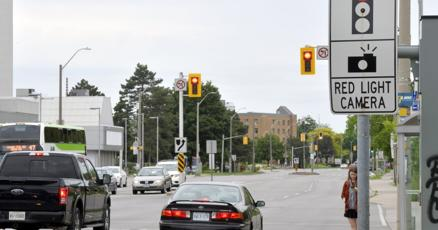red: (300, 48, 315, 75), (188, 73, 201, 97)
